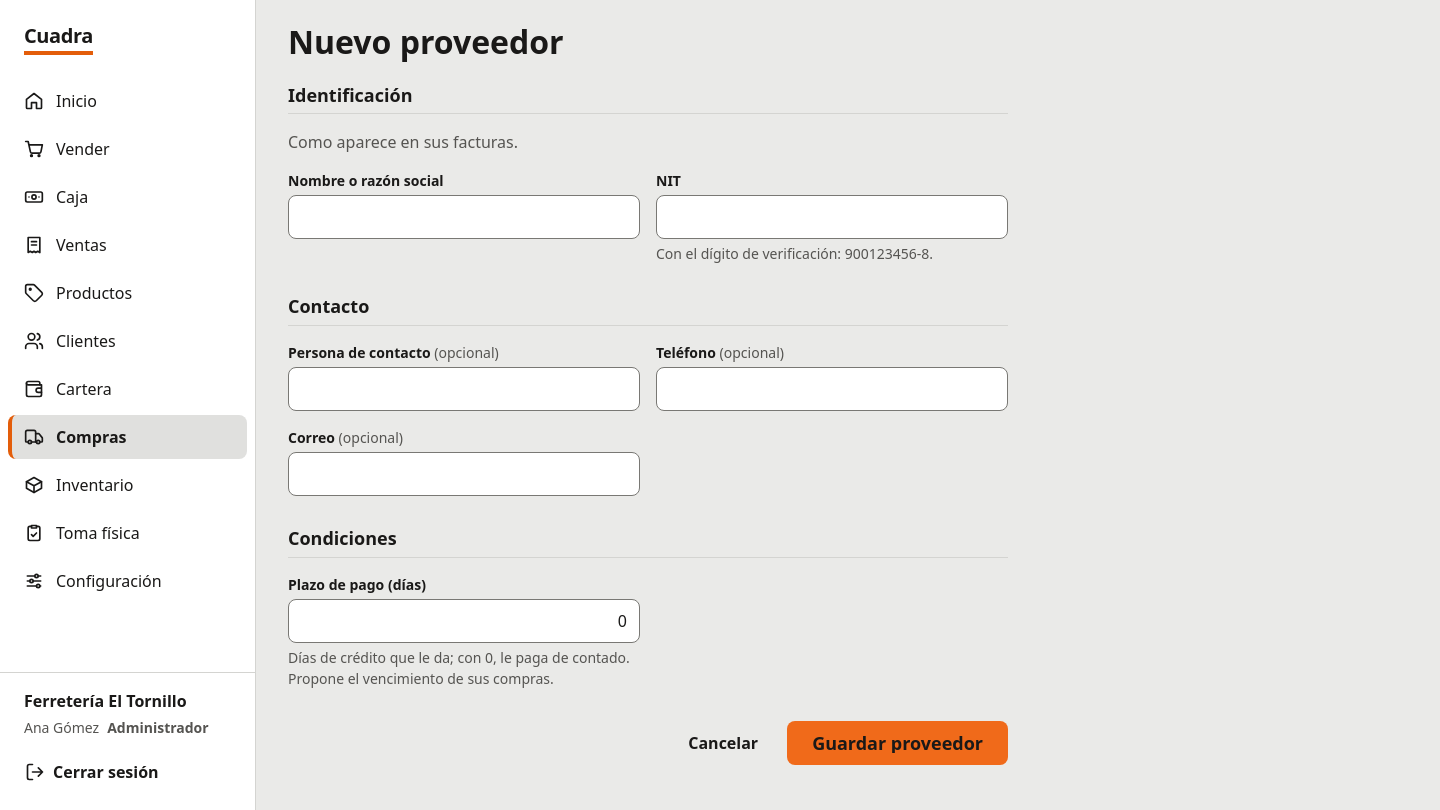
Test: SupplierFormPage › muestra el error del DV junto al NIT
In the field labelled "Nombre o razón social": (464, 218) 288,196 -> 640,240, type "Ferretería Mayorista del Sur"
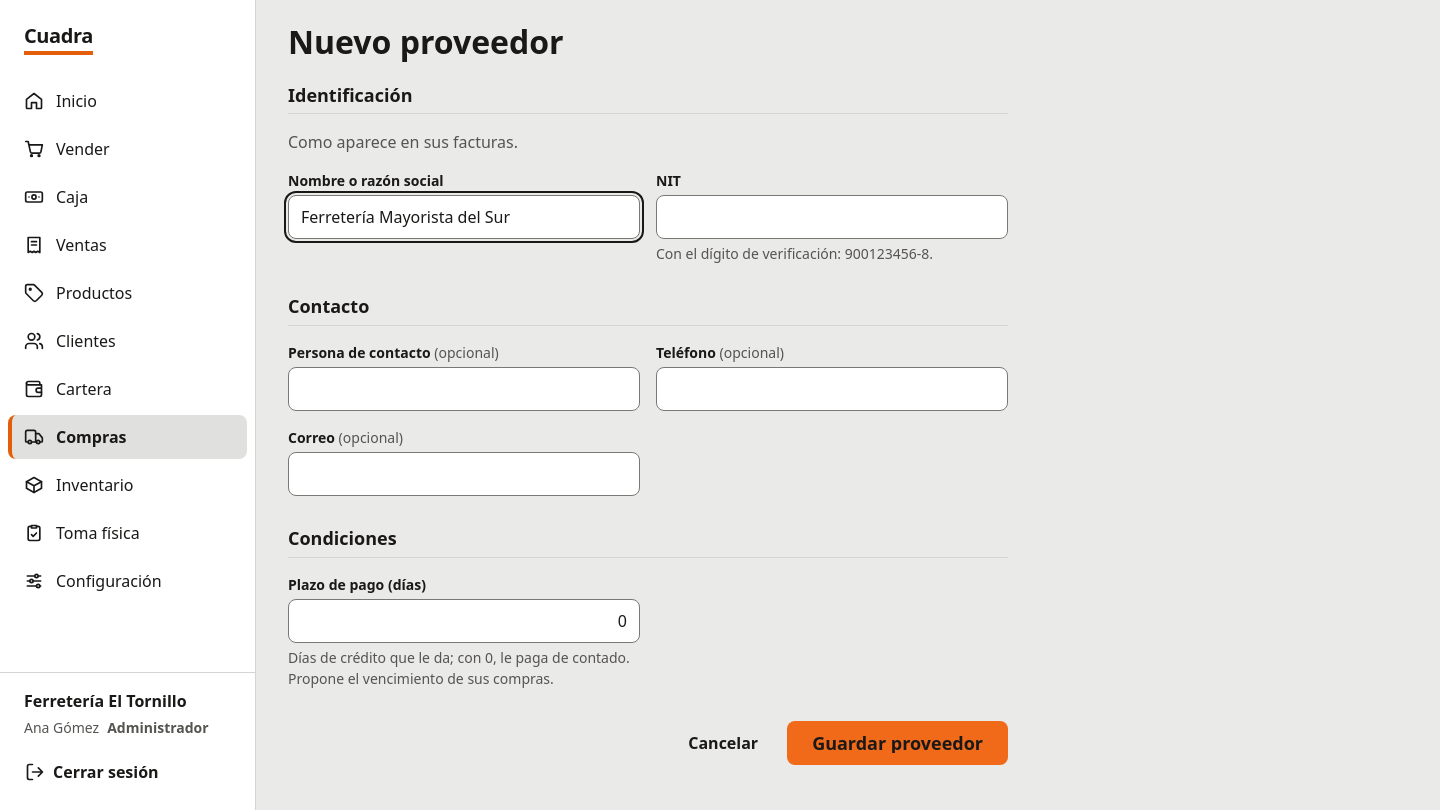
In the field labelled "NIT": (832, 218) 656,196 -> 1008,240, type "901555444-9"
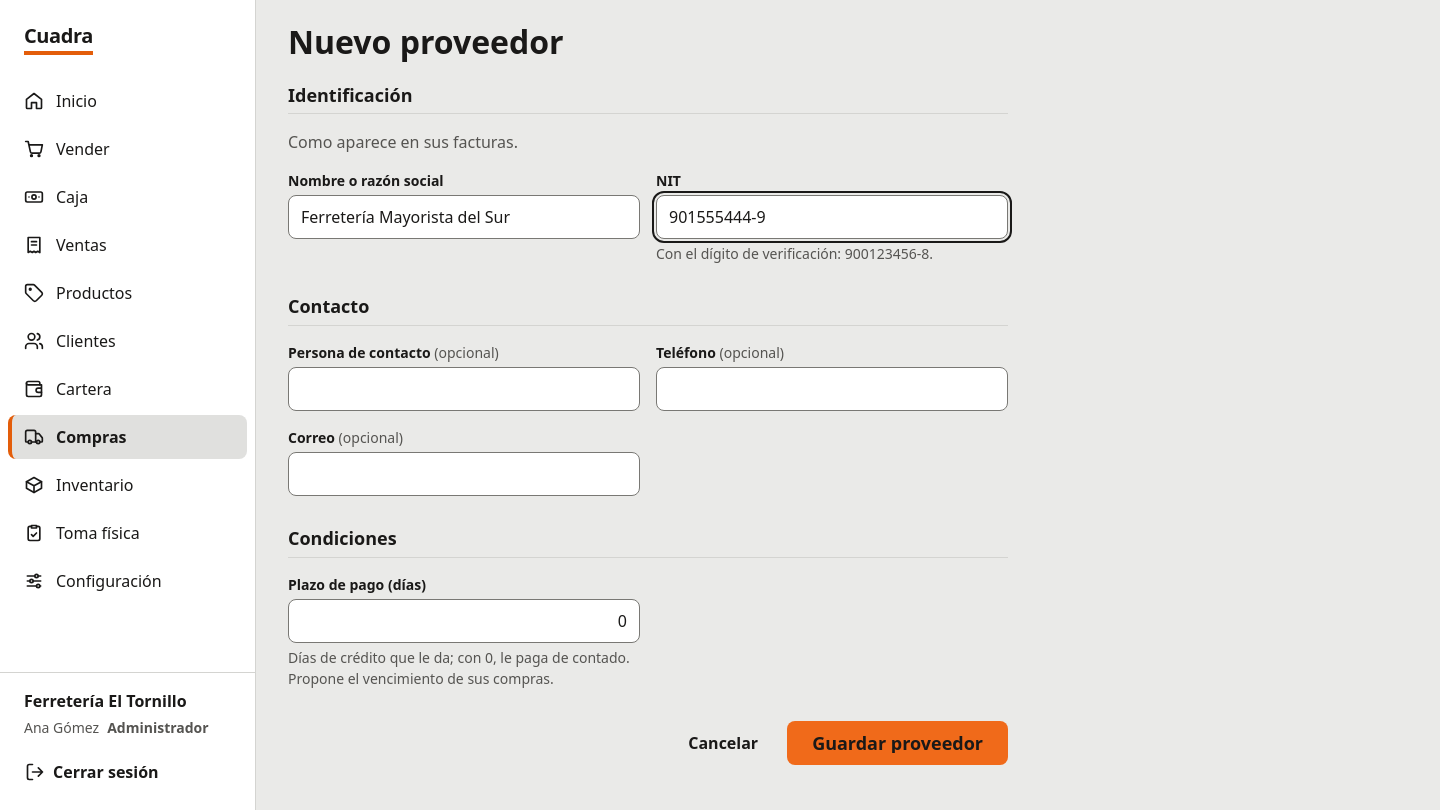
Click the button "Guardar proveedor": (898, 743) 787,721 -> 1008,765
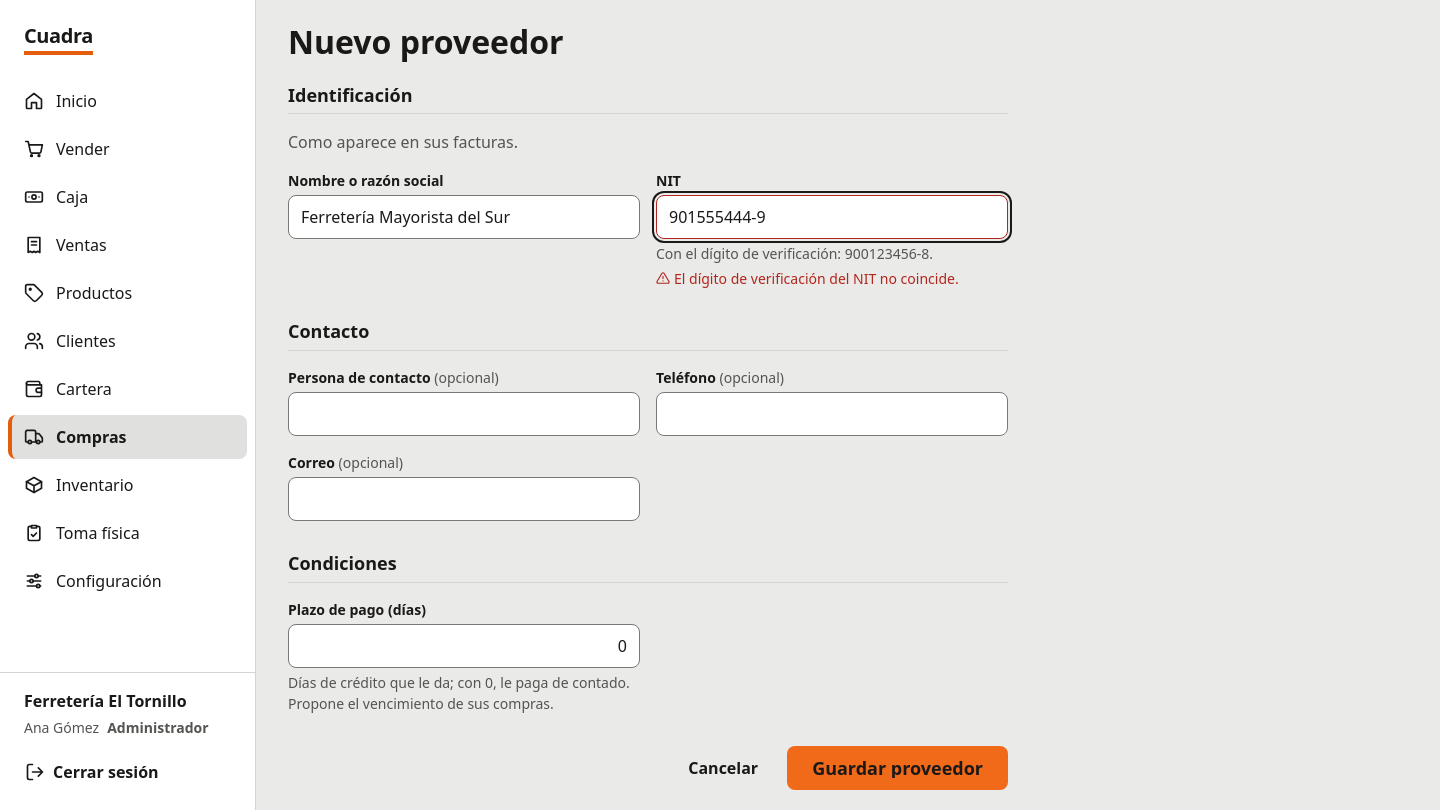
Now the text "El dígito de verificación del NIT no coincide." is shown, box 674,268 -> 959,290
